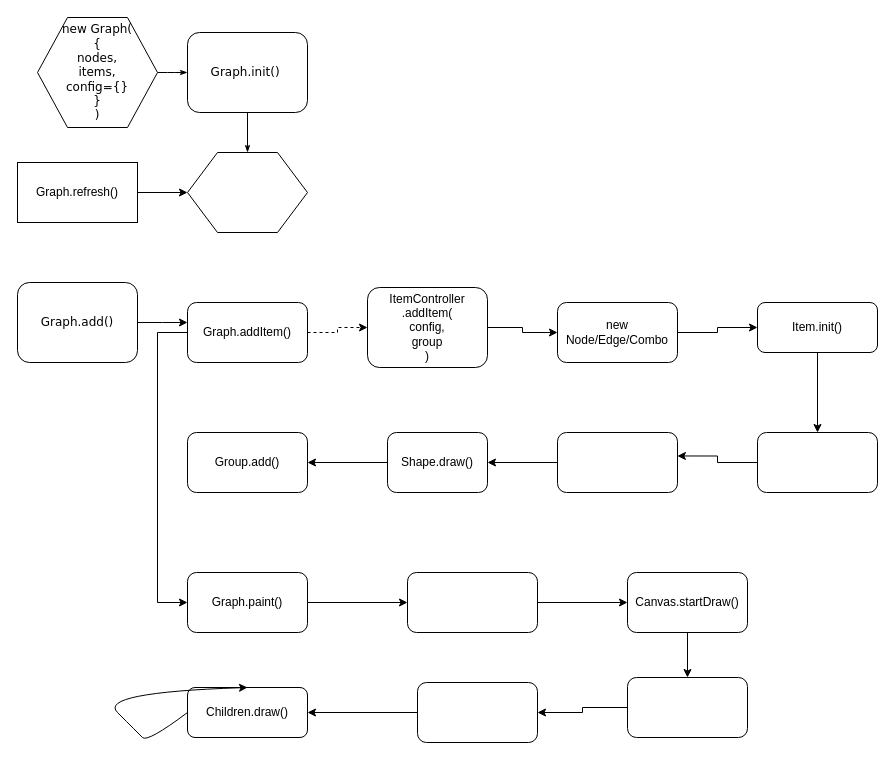
Some shapes in this 895 by 760 pixel diagram are drawn without their labels. Each missing label, with the centre of its shape:
Canvas.draw(): point (472, 602)
Canvas.drawAll(): point (687, 707)
Canvas.drawChildren: point (477, 712)
getShapeFactory(): point (617, 462)
Graph.render(): point (247, 192)
Item.draw(): point (817, 462)
